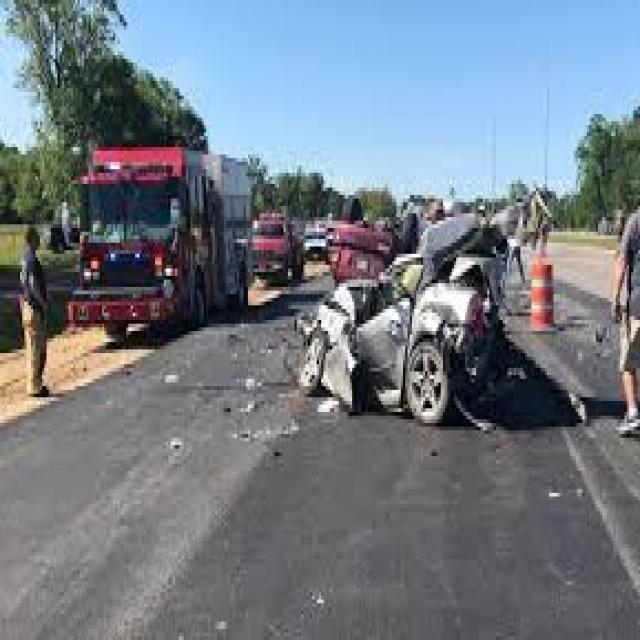accident: (285, 210, 541, 473)
